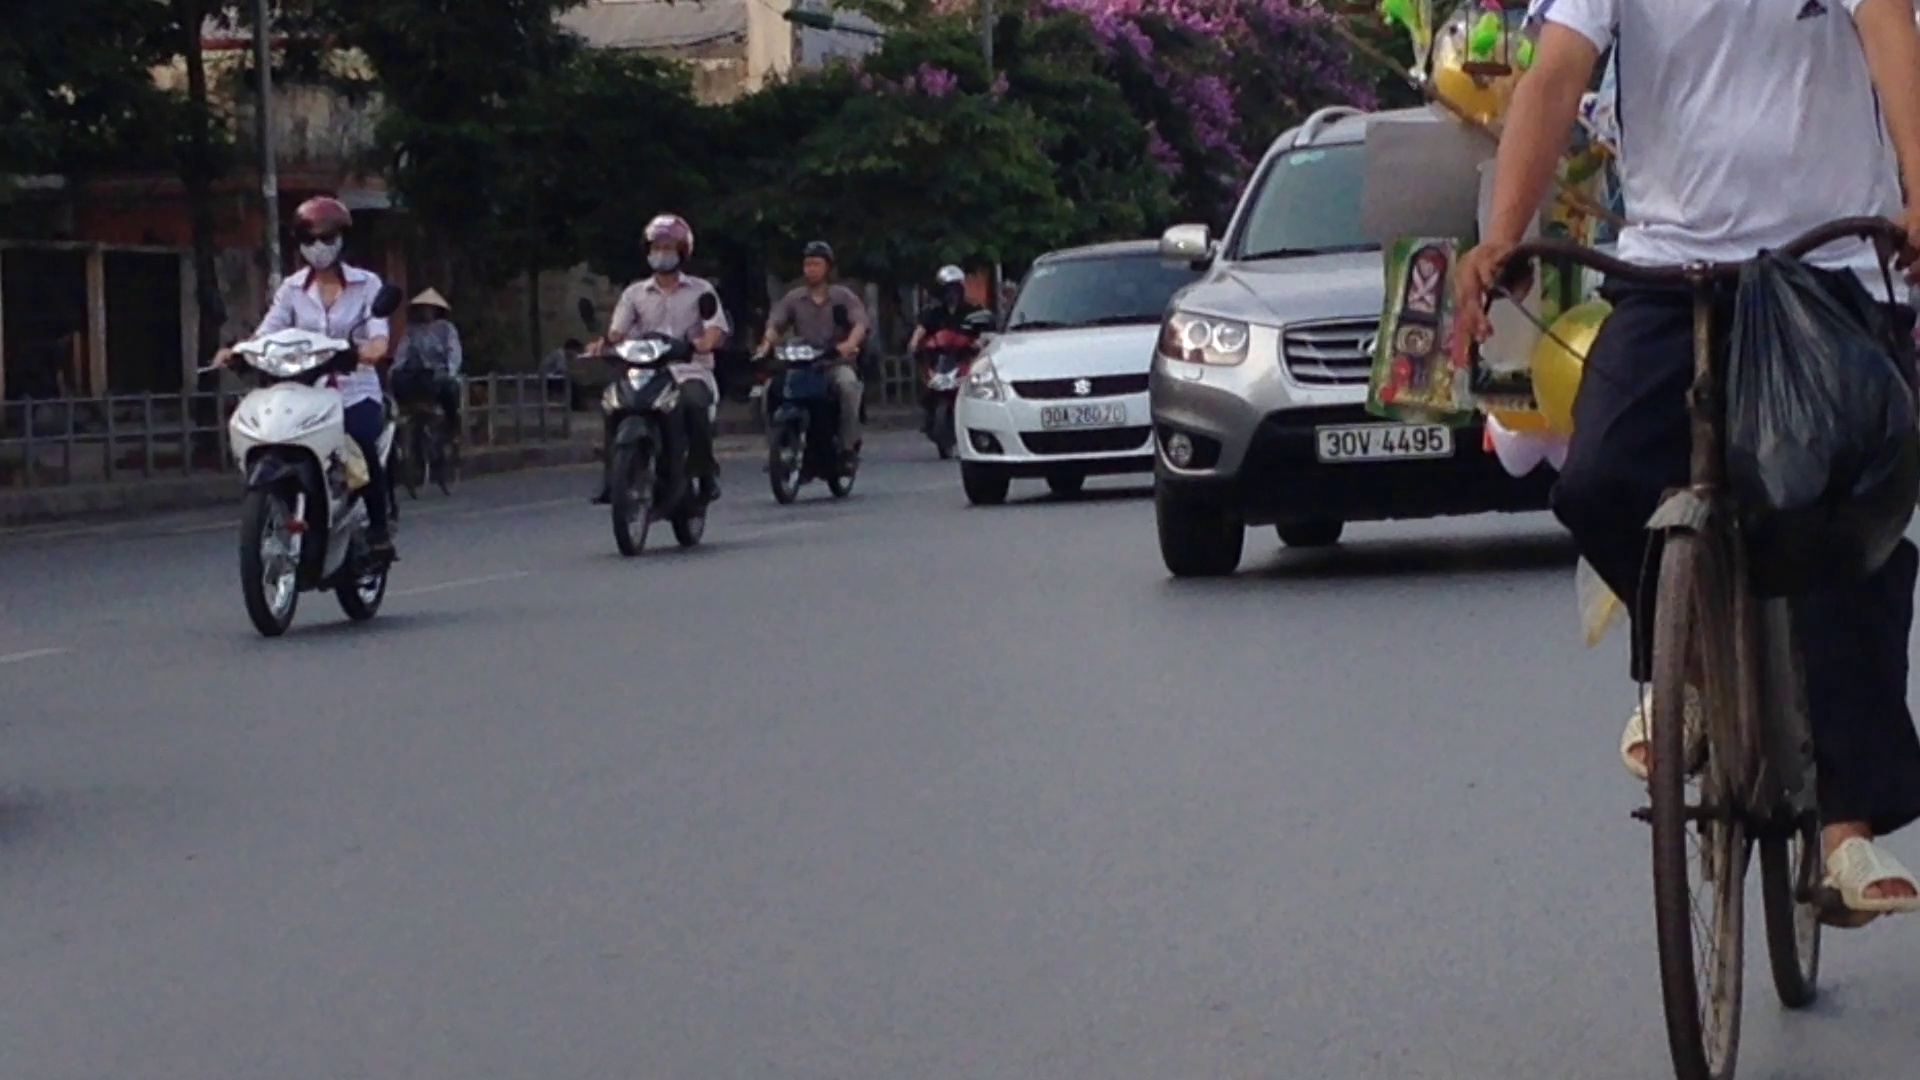person: (1037, 386, 1134, 436)
